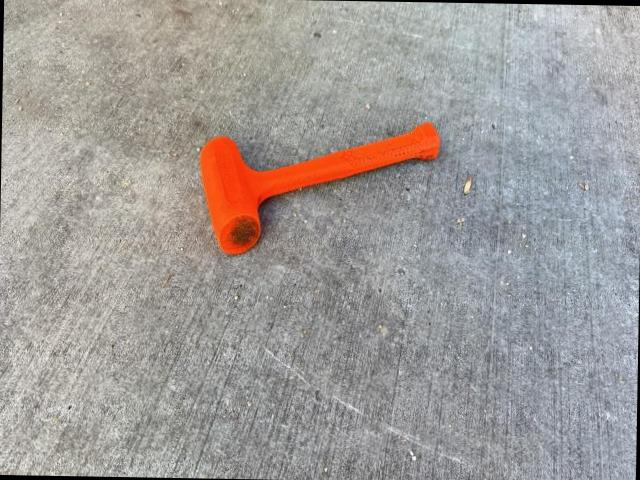hammer: (199, 118, 439, 258)
